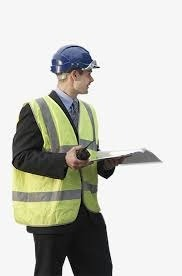helmet: (11, 43, 117, 275), (48, 42, 104, 78)
safety vest: (16, 99, 104, 226)
